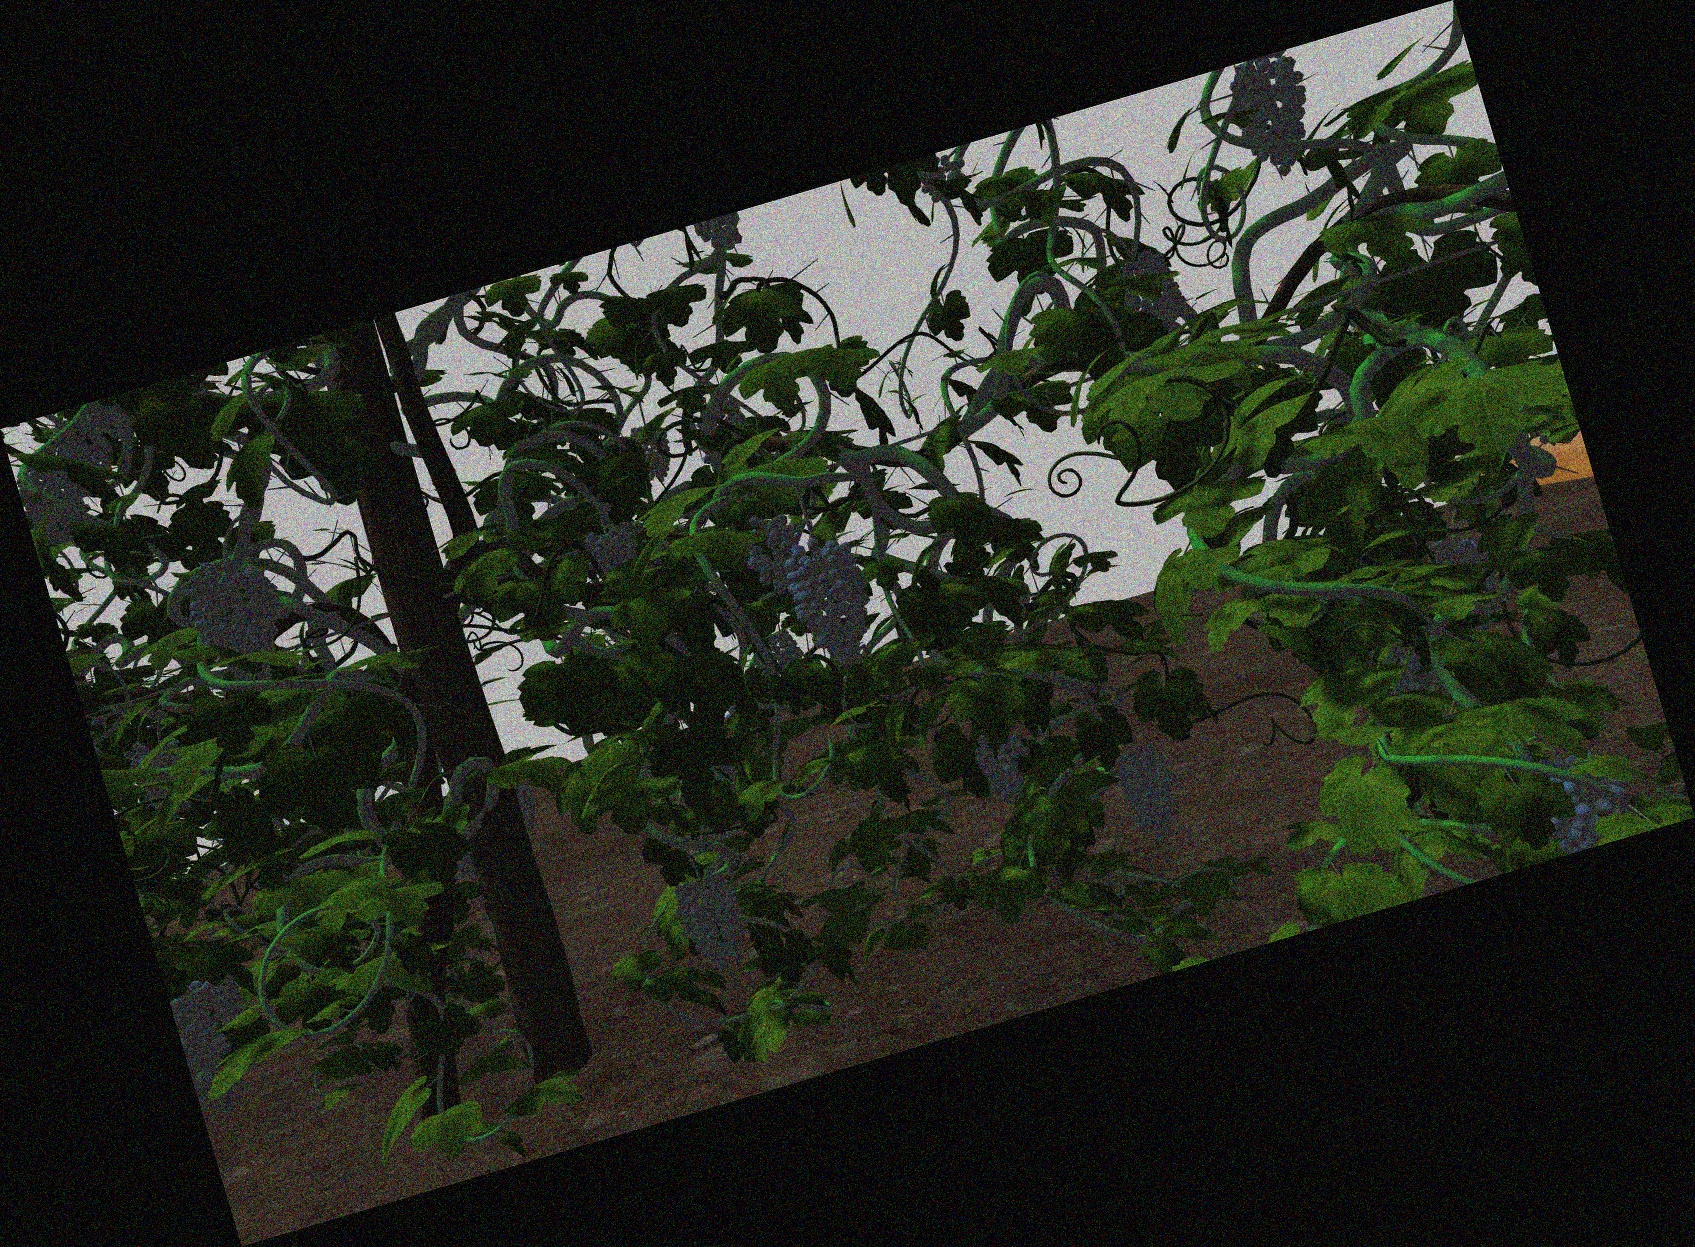grape: (794, 539, 870, 673), (187, 554, 279, 659), (1233, 64, 1315, 175), (682, 873, 749, 983), (1115, 742, 1178, 846), (186, 977, 238, 1097), (744, 516, 800, 601), (975, 734, 1034, 800), (586, 525, 638, 575)
